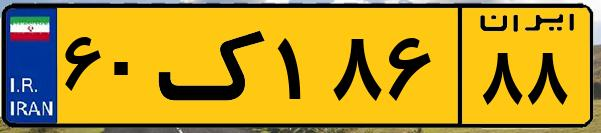0: (110, 28, 158, 98)
1: (270, 28, 330, 110)
6: (385, 28, 445, 110), (57, 26, 110, 100)
8: (330, 28, 385, 110), (475, 38, 525, 113), (525, 38, 570, 115)
ک: (158, 12, 270, 120)
